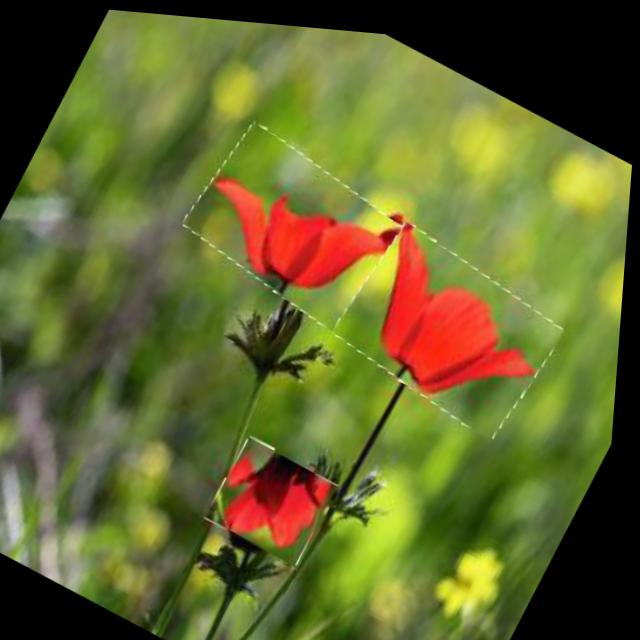Flower: (328, 209, 578, 435), (174, 111, 423, 333), (209, 427, 349, 564)
